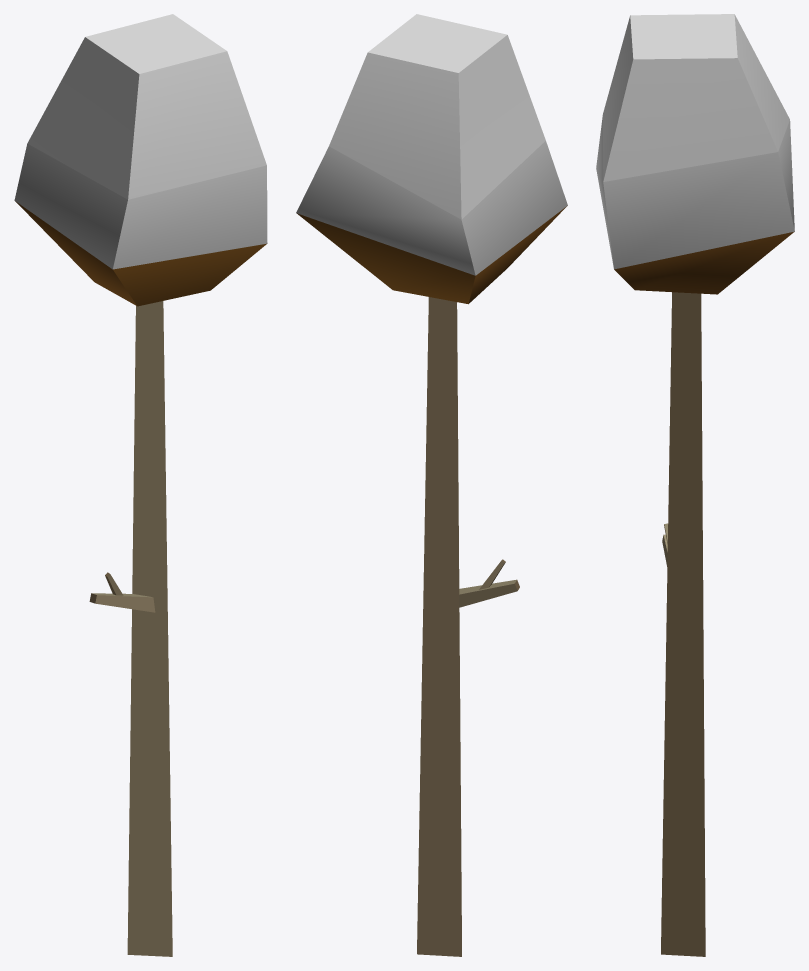
File: SF_Env_Tree_Snow_Tall_02.fbx
The picture shows the model from 3 angles, left to right: view 1: azimuth 30°, elevation 25°; view 2: azimuth 150°, elevation 25°; view 3: azimuth 270°, elevation 25°; orthographic projection.
Parts seen in each view (by area): view 1: SF_Env_Tree_Snow_Tall_02; view 2: SF_Env_Tree_Snow_Tall_02; view 3: SF_Env_Tree_Snow_Tall_02.
Part boxes in pixels (x1=…): SF_Env_Tree_Snow_Tall_02: x1=14, y1=14, x2=267, y2=956; SF_Env_Tree_Snow_Tall_02: x1=296, y1=14, x2=567, y2=956; SF_Env_Tree_Snow_Tall_02: x1=596, y1=14, x2=794, y2=956.
Size of the model in its own units: 2.02 by 9.87 by 1.94.
